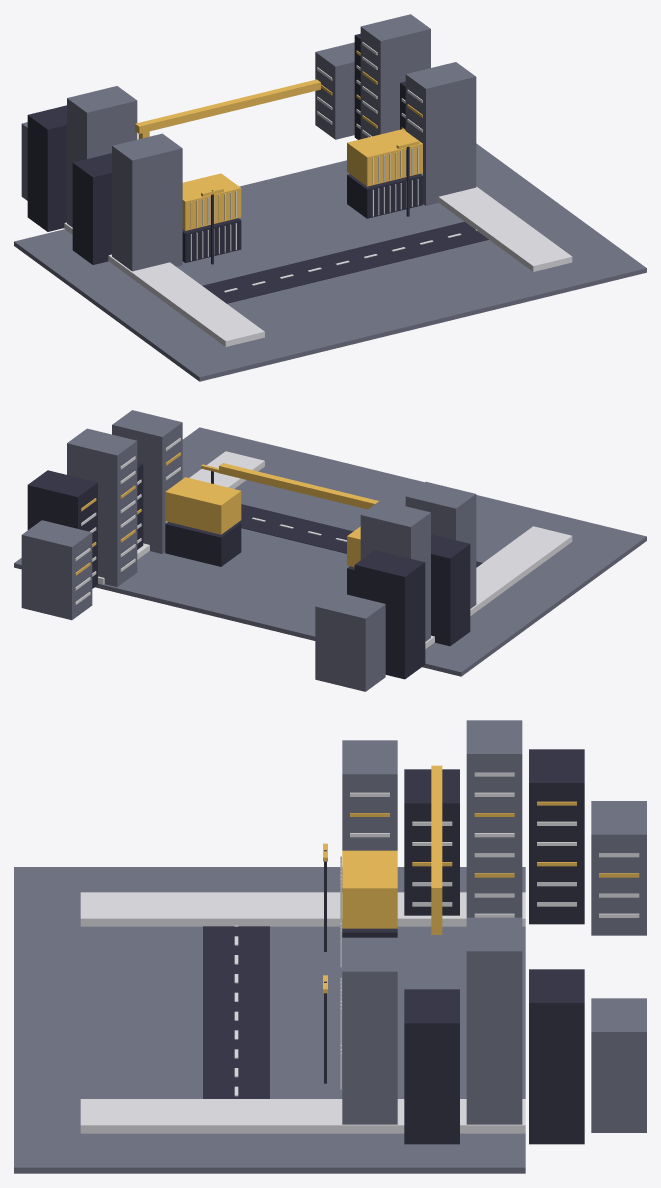
Rendered from district_3.glb.
3 views of the same model, one above another, from view 1: azimuth 30°, elevation 25°; view 2: azimuth 150°, elevation 25°; view 3: azimuth 270°, elevation 25° (orthographic). The views are drawn at different scales.
Visible parts, largest first — view 1: ArenaFloor, Building, Building.005, FightLane, Building.007, Sidewalk, Building.003, Building.002, Sidewalk.001, Building.001, Building.009, Container.003 (+6 smaller); view 2: ArenaFloor, Building.007, Building.004, Building.003, Building.009, Building.005, Building.001, Building.002, Building.008, Sidewalk, Container.003, Building (+6 smaller); view 3: ArenaFloor, Building.007, FightLane, Sidewalk.001, Building.005, Sidewalk, Building.002, Building.008, Building.003, Building.006, Building.009, Building.004 (+4 smaller).
Part boxes in pixels (box(x1,y1,x2,y2)): ArenaFloor: box(14, 143, 646, 381); Building: box(112, 133, 182, 271); Building.005: box(405, 62, 476, 205); FightLane: box(202, 221, 488, 303); Building.007: box(360, 14, 430, 138); Sidewalk: box(64, 222, 264, 346); Building.003: box(27, 105, 66, 231); Building.002: box(67, 86, 137, 227); Sidewalk.001: box(438, 186, 572, 271); Building.001: box(72, 153, 111, 264); Building.009: box(315, 42, 354, 139); Container.003: box(347, 129, 422, 186); ArenaFloor: box(14, 427, 646, 676); Building.007: box(67, 428, 137, 586); Building.004: box(315, 591, 385, 691); Building.003: box(354, 550, 425, 679); Building.009: box(21, 520, 92, 620); Building.005: box(112, 410, 182, 553); Building.001: box(431, 534, 470, 646); Building.002: box(360, 500, 430, 641); Building.008: box(27, 470, 97, 588); Sidewalk: box(425, 526, 572, 648); Container.003: box(165, 477, 241, 534); Building: box(405, 481, 476, 608); ArenaFloor: box(14, 867, 525, 1173); Building.007: box(466, 917, 522, 1124); FightLane: box(203, 926, 269, 1098); Sidewalk.001: box(80, 1099, 525, 1133); Building.005: box(342, 937, 397, 1124); Sidewalk: box(80, 892, 525, 926); Building.002: box(466, 720, 522, 917); Building.008: box(529, 969, 584, 1144); Building.003: box(529, 749, 584, 924); Building.006: box(404, 989, 459, 1144); Building.009: box(591, 998, 646, 1132); Building.004: box(591, 801, 646, 935).
Size of the model in its own units: 32 by 9.3 by 28.45.
